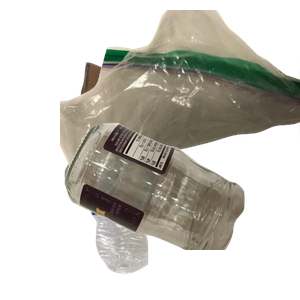cardboard: (75, 59, 237, 176)
glass: (62, 120, 300, 300)
plastic: (88, 158, 229, 300)
trash: (60, 10, 300, 176)
